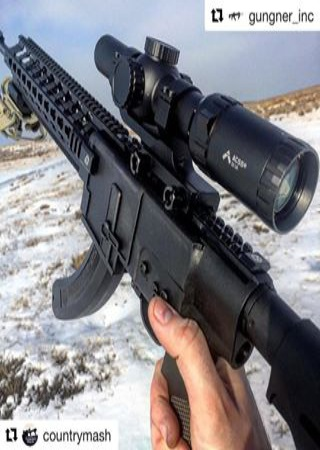rifle: (1, 30, 313, 449)
